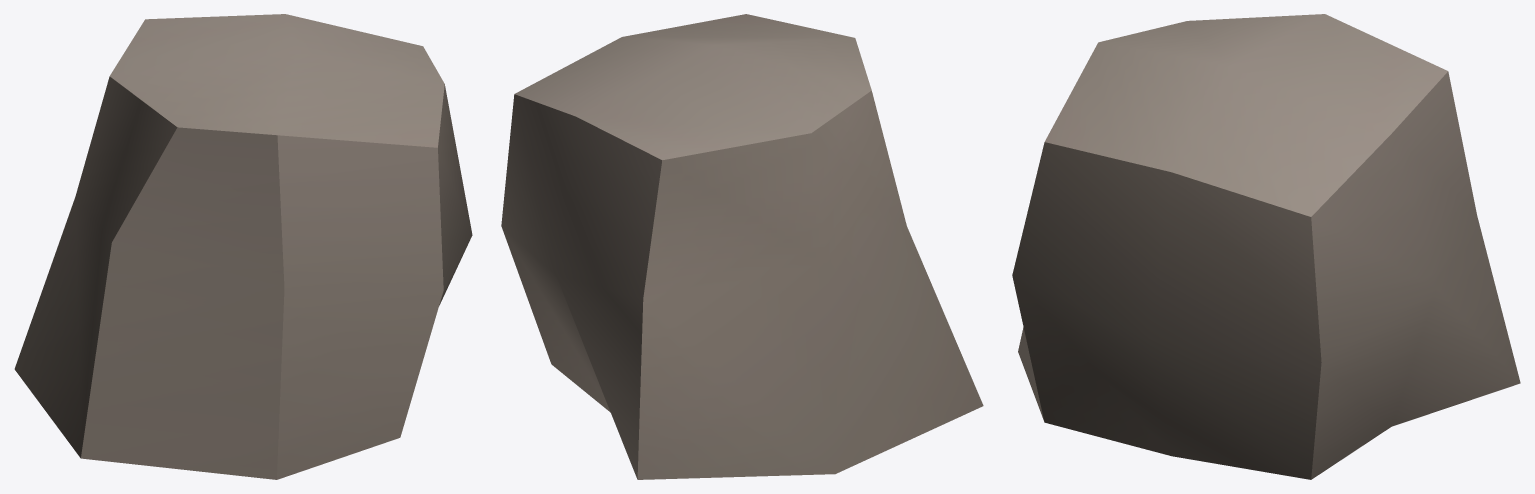
The model's file is elf_mine_stone_05.fbx.
The picture shows the model from 3 angles, left to right: view 1: azimuth 30°, elevation 25°; view 2: azimuth 150°, elevation 25°; view 3: azimuth 270°, elevation 25°; orthographic projection. The views are drawn at different scales.
Parts seen in each view (by area): view 1: elf_mine_stone_05; view 2: elf_mine_stone_05; view 3: elf_mine_stone_05.
Boxes of the visible parts, <box> form: elf_mine_stone_05: <box>14,14,472,479</box>; elf_mine_stone_05: <box>501,14,983,479</box>; elf_mine_stone_05: <box>1012,14,1520,479</box>.
Bounding box in the file's own units: 226 × 169 × 224.
